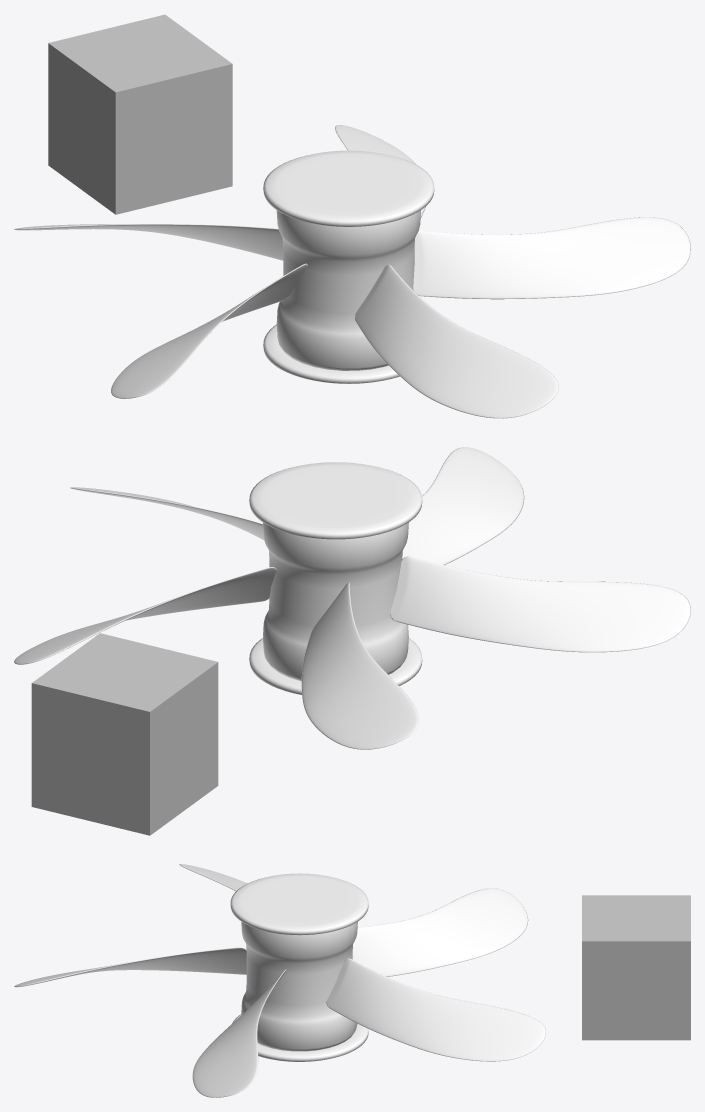
Rendered from fan2.obj.
The picture shows the model from 3 angles, top to bottom: view 1: azimuth 30°, elevation 25°; view 2: azimuth 150°, elevation 25°; view 3: azimuth 270°, elevation 25°; orthographic projection. The views are drawn at different scales.
Visible parts, largest first — view 1: 10828_BoxFan_v2.001, Cube; view 2: 10828_BoxFan_v2.001, Cube; view 3: 10828_BoxFan_v2.001, Cube.
Boxes of the visible parts, <box> form: 10828_BoxFan_v2.001: <box>14,125,690,418</box>; Cube: <box>48,14,232,214</box>; 10828_BoxFan_v2.001: <box>14,447,690,749</box>; Cube: <box>31,633,218,835</box>; 10828_BoxFan_v2.001: <box>14,864,545,1097</box>; Cube: <box>582,895,690,1040</box>.
Size of the model in its own units: 10.01 by 2.69 by 12.41.
Materials: 2 (1 with a texture image).
